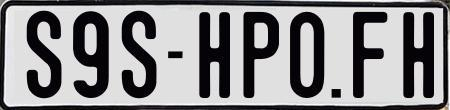0: (289, 11, 323, 97)
9: (72, 10, 108, 102)
F: (353, 11, 388, 103)
H: (198, 9, 230, 95), (400, 11, 430, 97)
P: (242, 9, 279, 95)
S: (119, 10, 160, 102), (25, 10, 62, 103)
